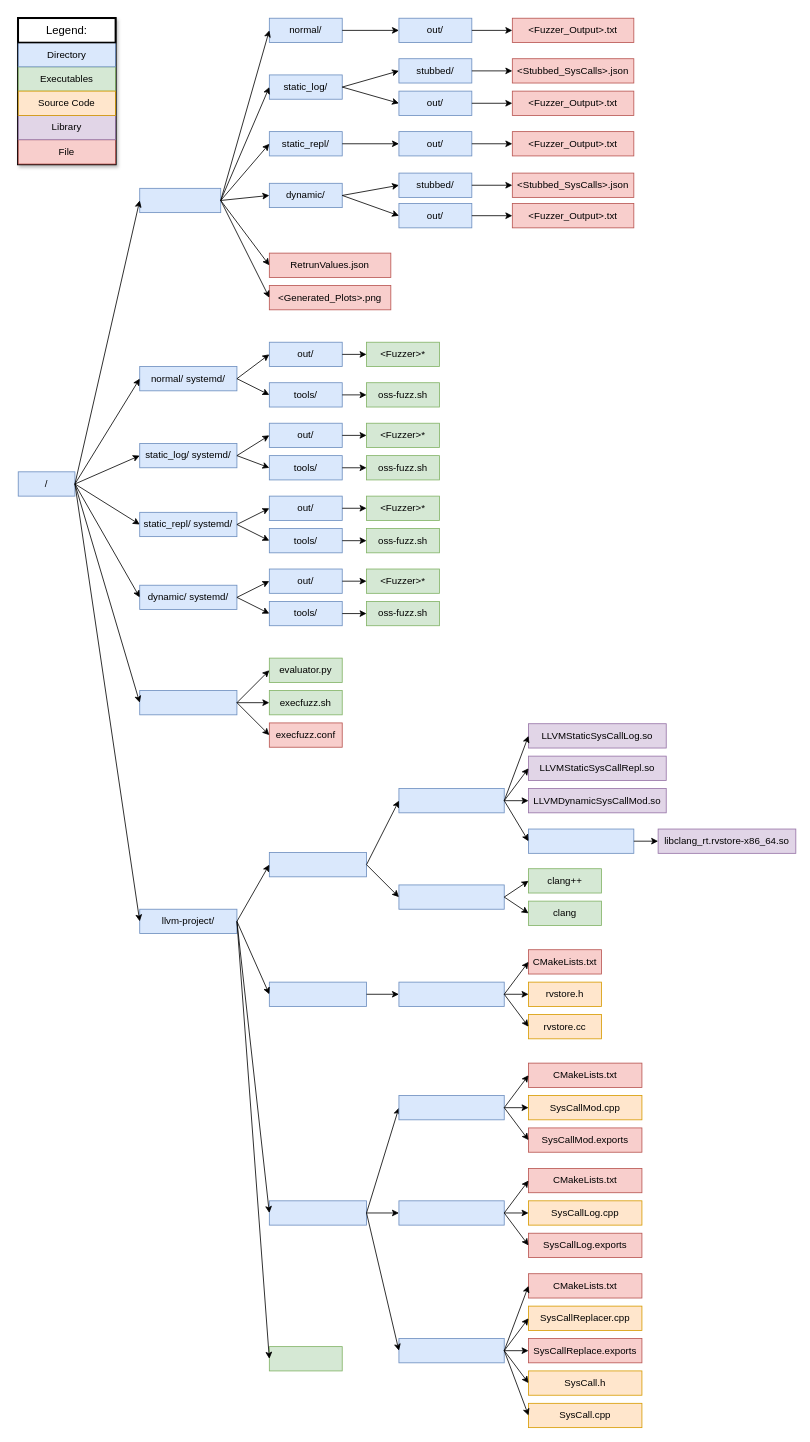
This 810x1442 diagram has some shape labels left out. Here are the shapes that lost their labels. From the top down, the centre of each, then its label:
At pixel 180 200: "info/".
At pixel 188 702: "scripts/".
At pixel 451 800: "lib/".
At pixel 581 840: "clang/12.0.1/lib/linux/".
At pixel 318 864: "build/".
At pixel 451 896: "bin/".
At pixel 318 993: "compiler-rt/ lib/".
At pixel 451 993: "rvstore/".
At pixel 451 1107: "DynamicSysCallMod/".
At pixel 318 1212: "llvm/ lib/ Transforms/".
At pixel 451 1212: "StaticSysCallLog".
At pixel 305 1358: "compile.sh".
At pixel 451 1350: "StaticSysCallRepl".
